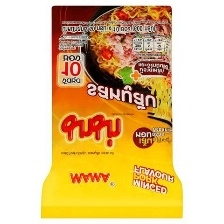snack: (33, 0, 189, 224)
